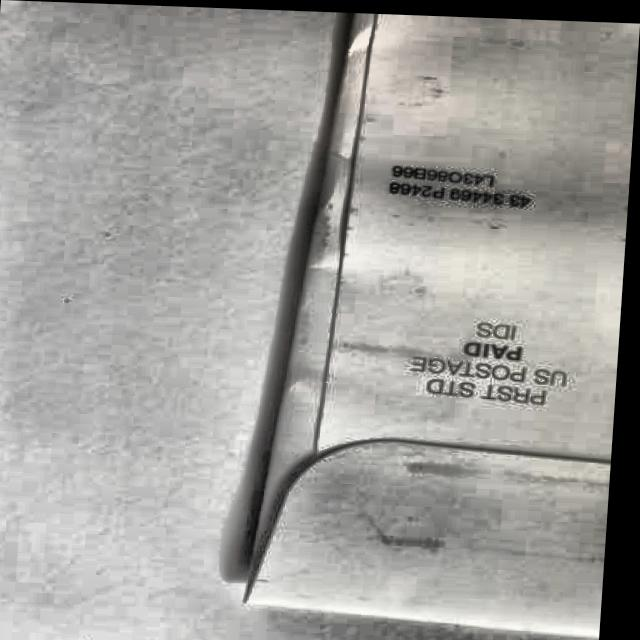paper: (235, 11, 640, 640)
